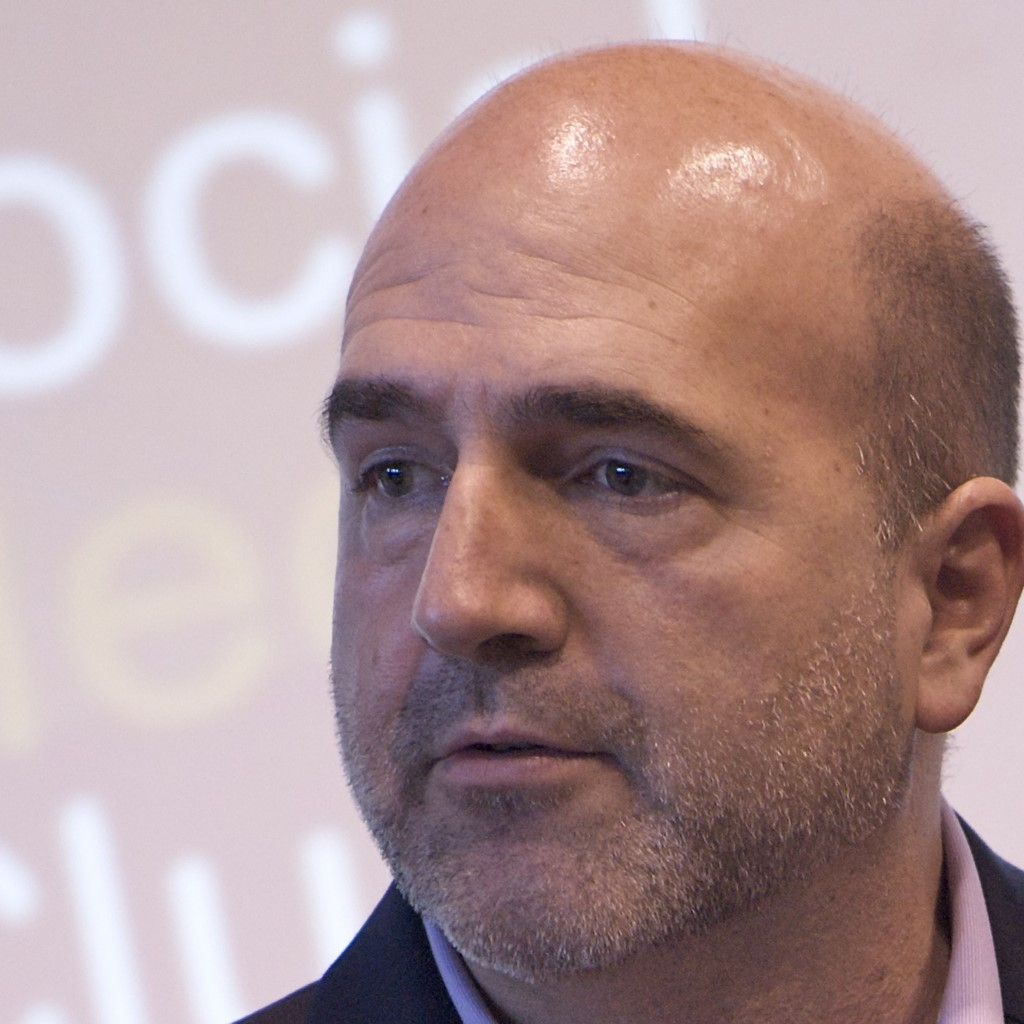sin_mascara: (324, 100, 905, 955)
